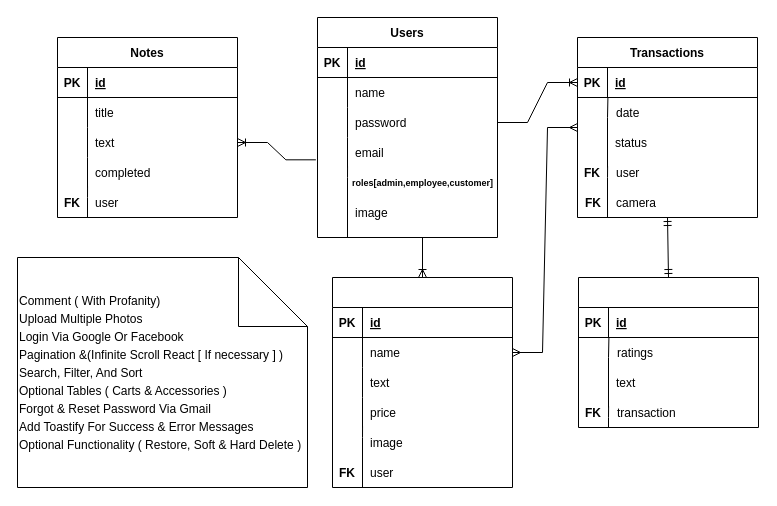
This 777x506 diagram has some shape labels left out. The shapes that lost their labels are listed below. From the top down, each one's box as (x1, y1, x2, y2) in pixels, then its label:
(578, 276, 758, 428): Comments
(332, 276, 512, 488): Cameras
